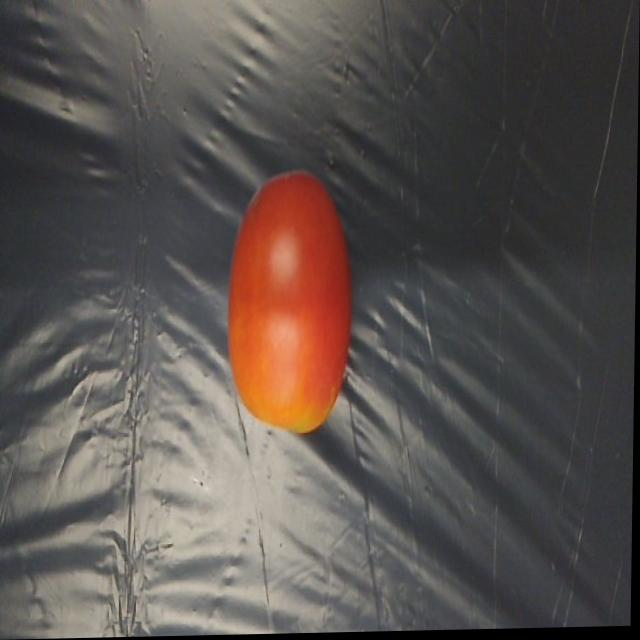sari: (226, 151, 377, 453)
